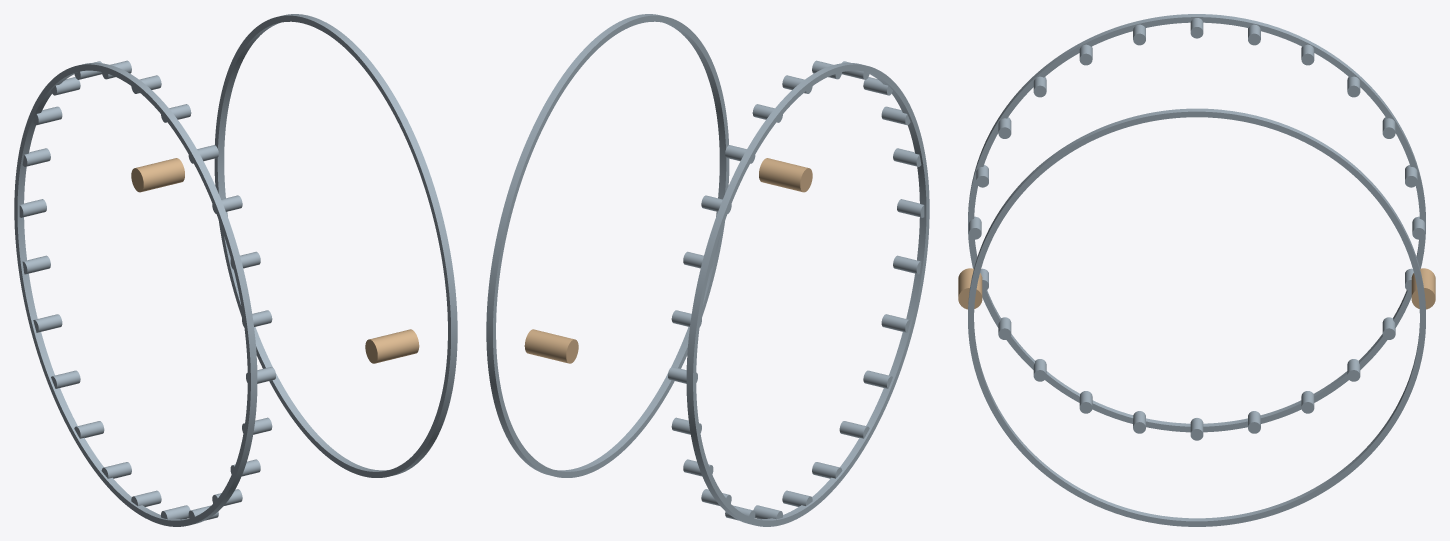
The model's file is combustor-thermal-hardware.glb.
The picture shows the model from 3 angles, left to right: view 1: azimuth 30°, elevation 25°; view 2: azimuth 150°, elevation 25°; view 3: azimuth 270°, elevation 25°; orthographic projection. The views are drawn at different scales.
Visible parts, largest first — view 1: combustor-thermal-hardware - steel, combustor-thermal-hardware - bronze; view 2: combustor-thermal-hardware - steel, combustor-thermal-hardware - bronze; view 3: combustor-thermal-hardware - steel, combustor-thermal-hardware - bronze.
Boxes of the visible parts, x1,y1,x2,y2 form: combustor-thermal-hardware - steel: (14, 14, 457, 526); combustor-thermal-hardware - bronze: (131, 158, 419, 363); combustor-thermal-hardware - steel: (486, 14, 929, 526); combustor-thermal-hardware - bronze: (524, 158, 812, 363); combustor-thermal-hardware - steel: (968, 14, 1425, 526); combustor-thermal-hardware - bronze: (958, 268, 1435, 309).
Bounding box in the file's own units: 0.824 × 1.63 × 1.7.
